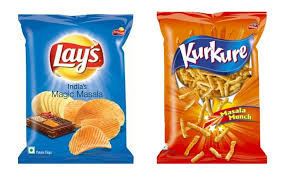kurkure: (171, 35, 251, 74)
plastic: (15, 10, 135, 168), (153, 9, 272, 167)
wrapper: (151, 7, 277, 172), (15, 12, 137, 165)
